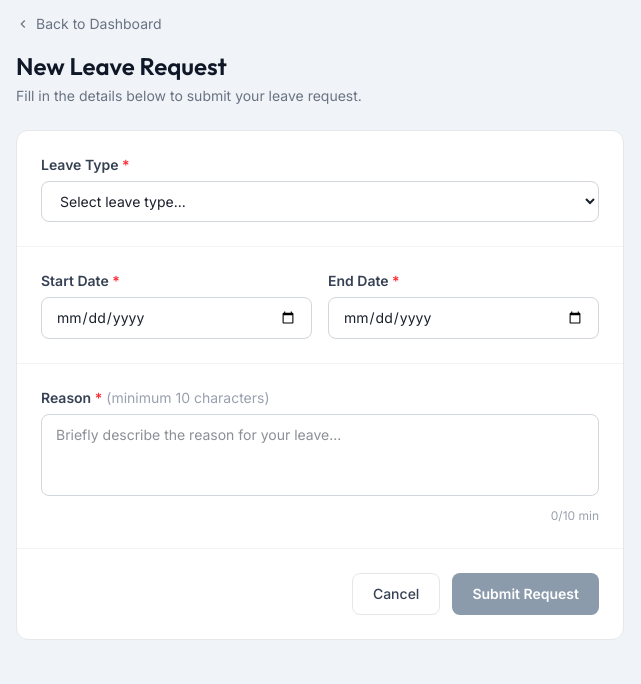
Test: NewLeaveRequest — server error mapping › 422 → balance banner error
The image size is (641, 684).
Step 1. Select "Annual Leave" in the dropdown labelled "Leave Type *" → (320, 202), box [41,181,599,222]
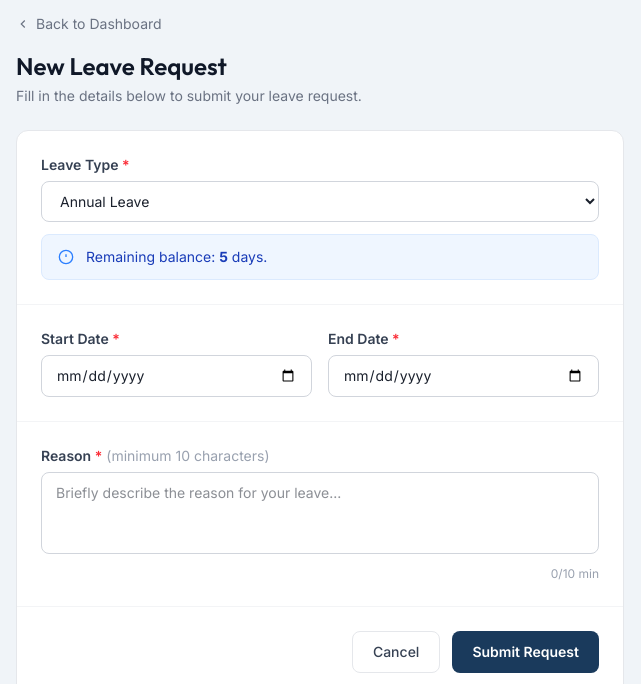
Step 2. Type "2026-09-01" into the date field labelled "Start Date *" → (176, 376), box [41,355,312,397]
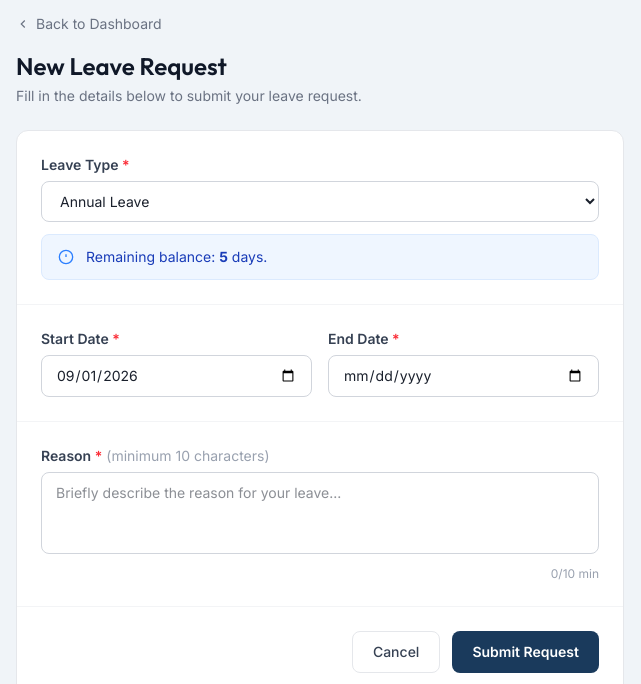
Step 3. Type "2026-09-05" into the date field labelled "End Date *" → (464, 376), box [328,355,599,397]
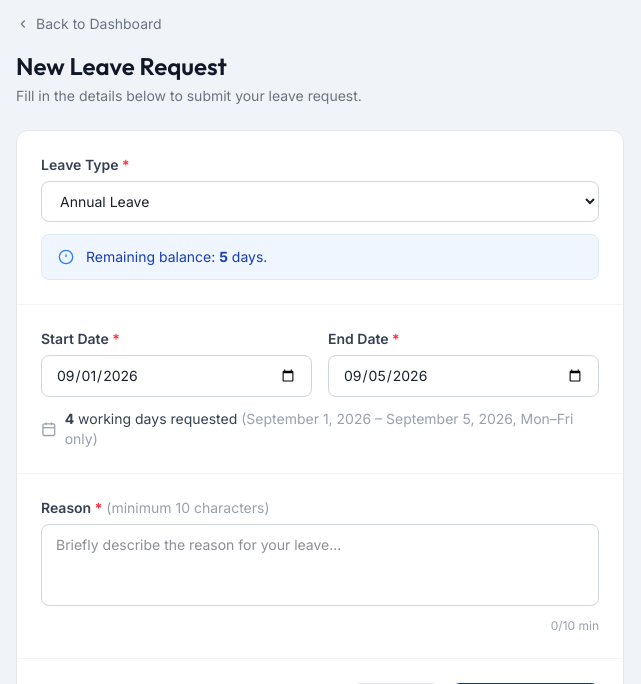
Step 4. Type "Valid reason text for testing" into the text box labelled "Reason *(minimum 10 characters)" → (320, 565), box [41,524,599,606]
(page scrolled)
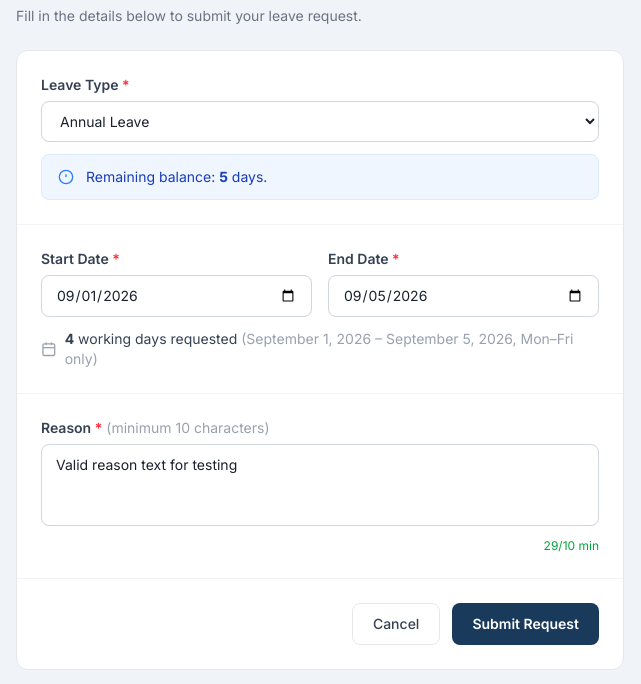
Step 5. Submit the form named "Submit Request"
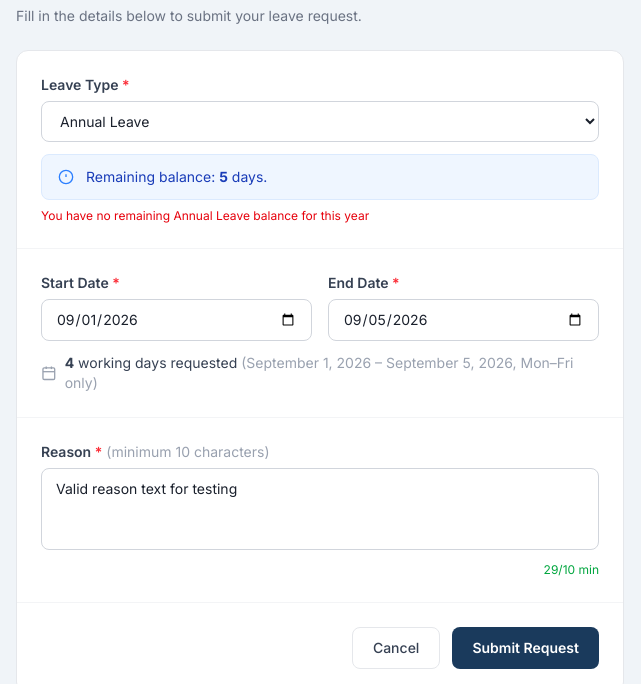
Check: the text "You have no remaining Annual Leave balance for this year" is shown, box [41,208,369,223]
